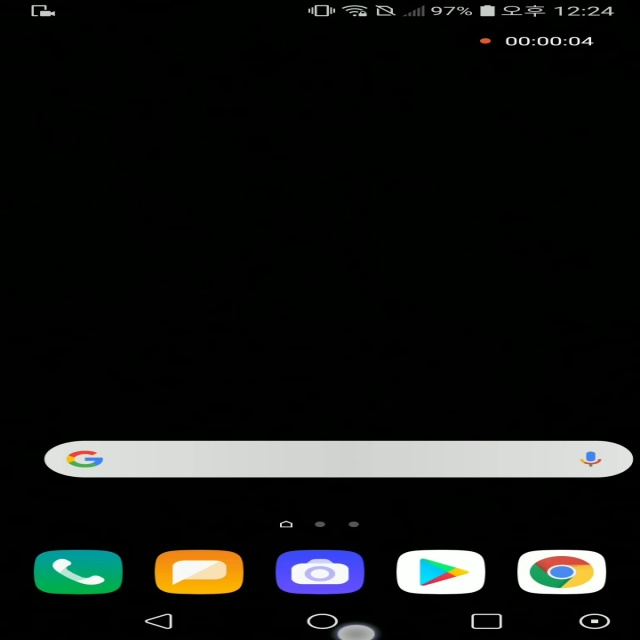Cursor: (336, 621, 383, 640)
